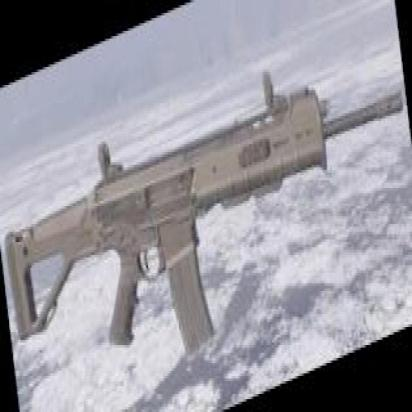Gun: (0, 23, 412, 412)
